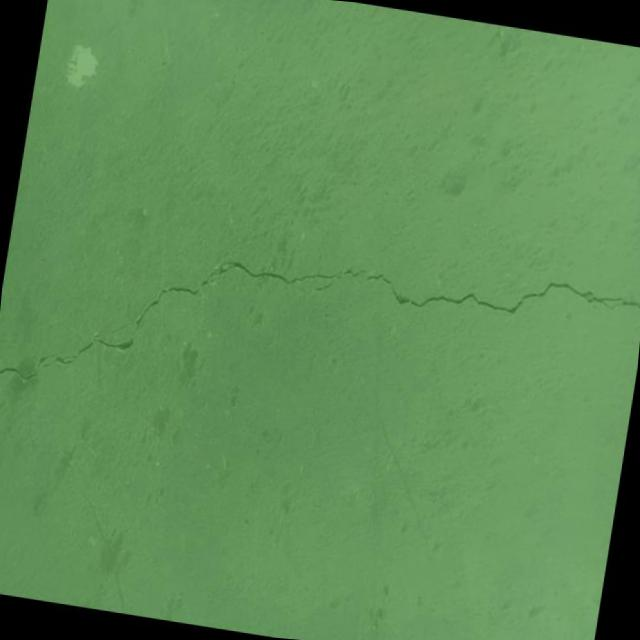crack: (0, 194, 640, 479)
